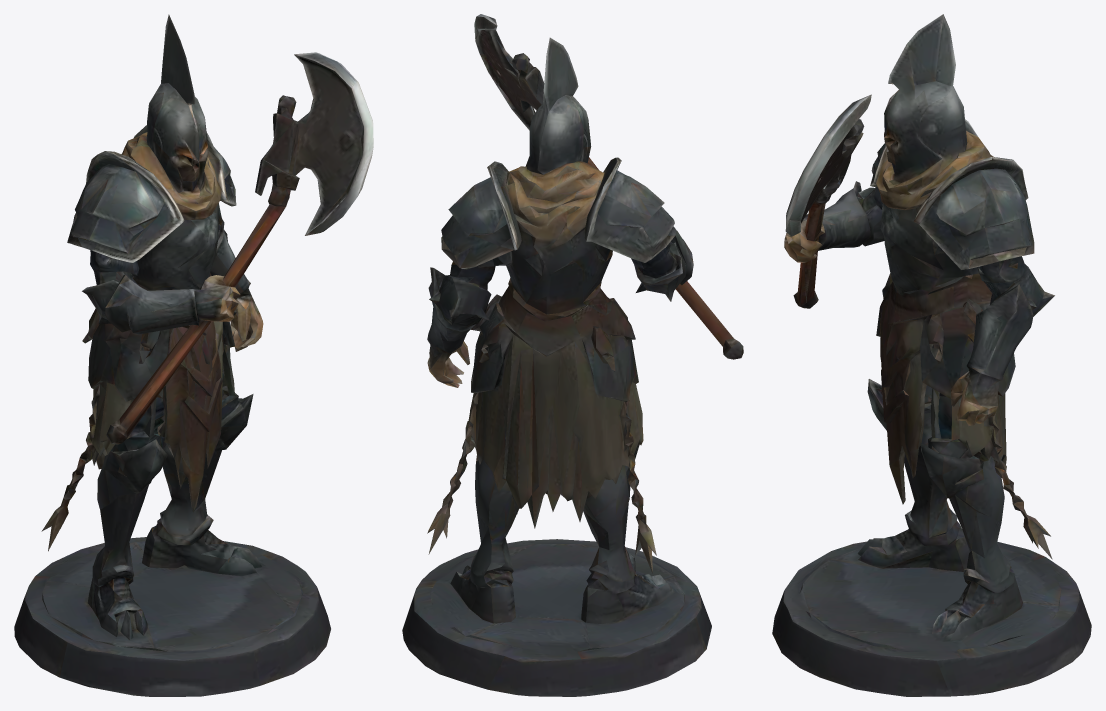
The model's file is mob_dreadknight.glb.
The picture shows the model from 3 angles, left to right: view 1: azimuth 30°, elevation 25°; view 2: azimuth 150°, elevation 25°; view 3: azimuth 270°, elevation 25°; orthographic projection. The views are drawn at different scales.
Bounding box in the file's own units: 0.8927 × 1.9 × 0.8864.
1 material, 1 textured.
